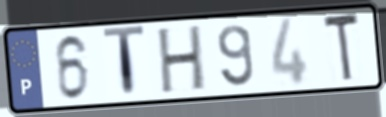4: (269, 15, 314, 89)
6: (53, 33, 92, 101)
9: (215, 23, 257, 89)
H: (156, 22, 207, 97)
T: (101, 23, 148, 102), (321, 10, 363, 86)
